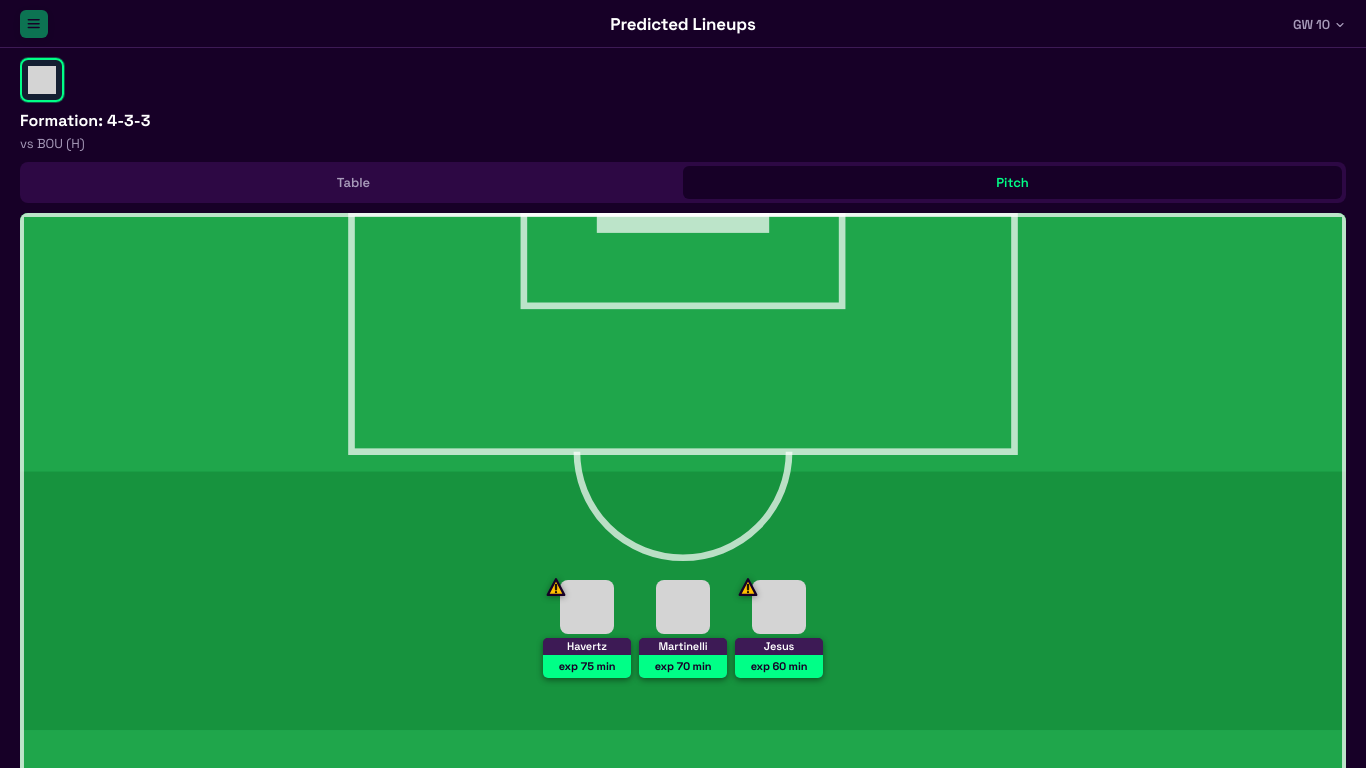
it: PredictedLineupsScreen › opens gameweek picker bottom sheet from header
Click the button "GW 10". click: coordinates (1320, 24)
box: [1293,18,1346,31]
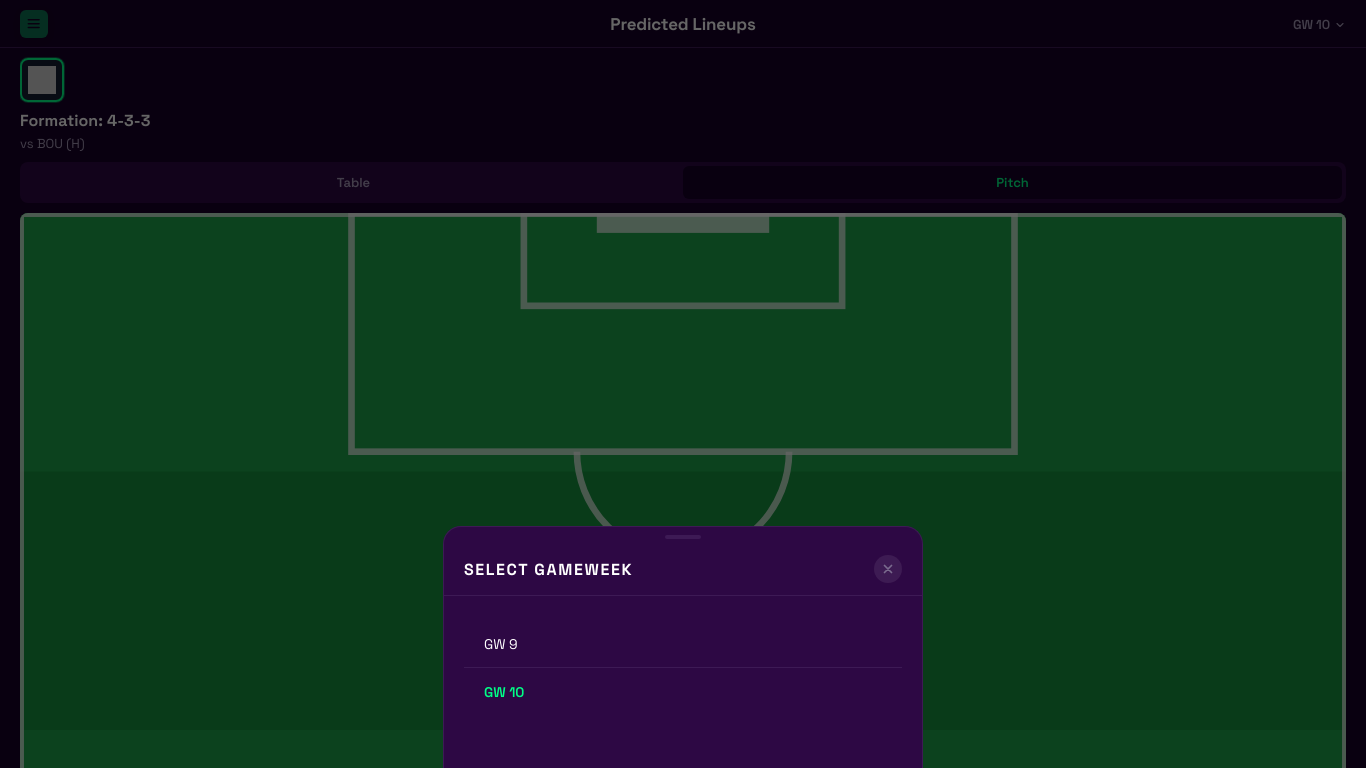
expect the dialog is shown: met, box [443,526,923,767]
expect the button "GW 9" is shown: met, box [464,620,902,668]
